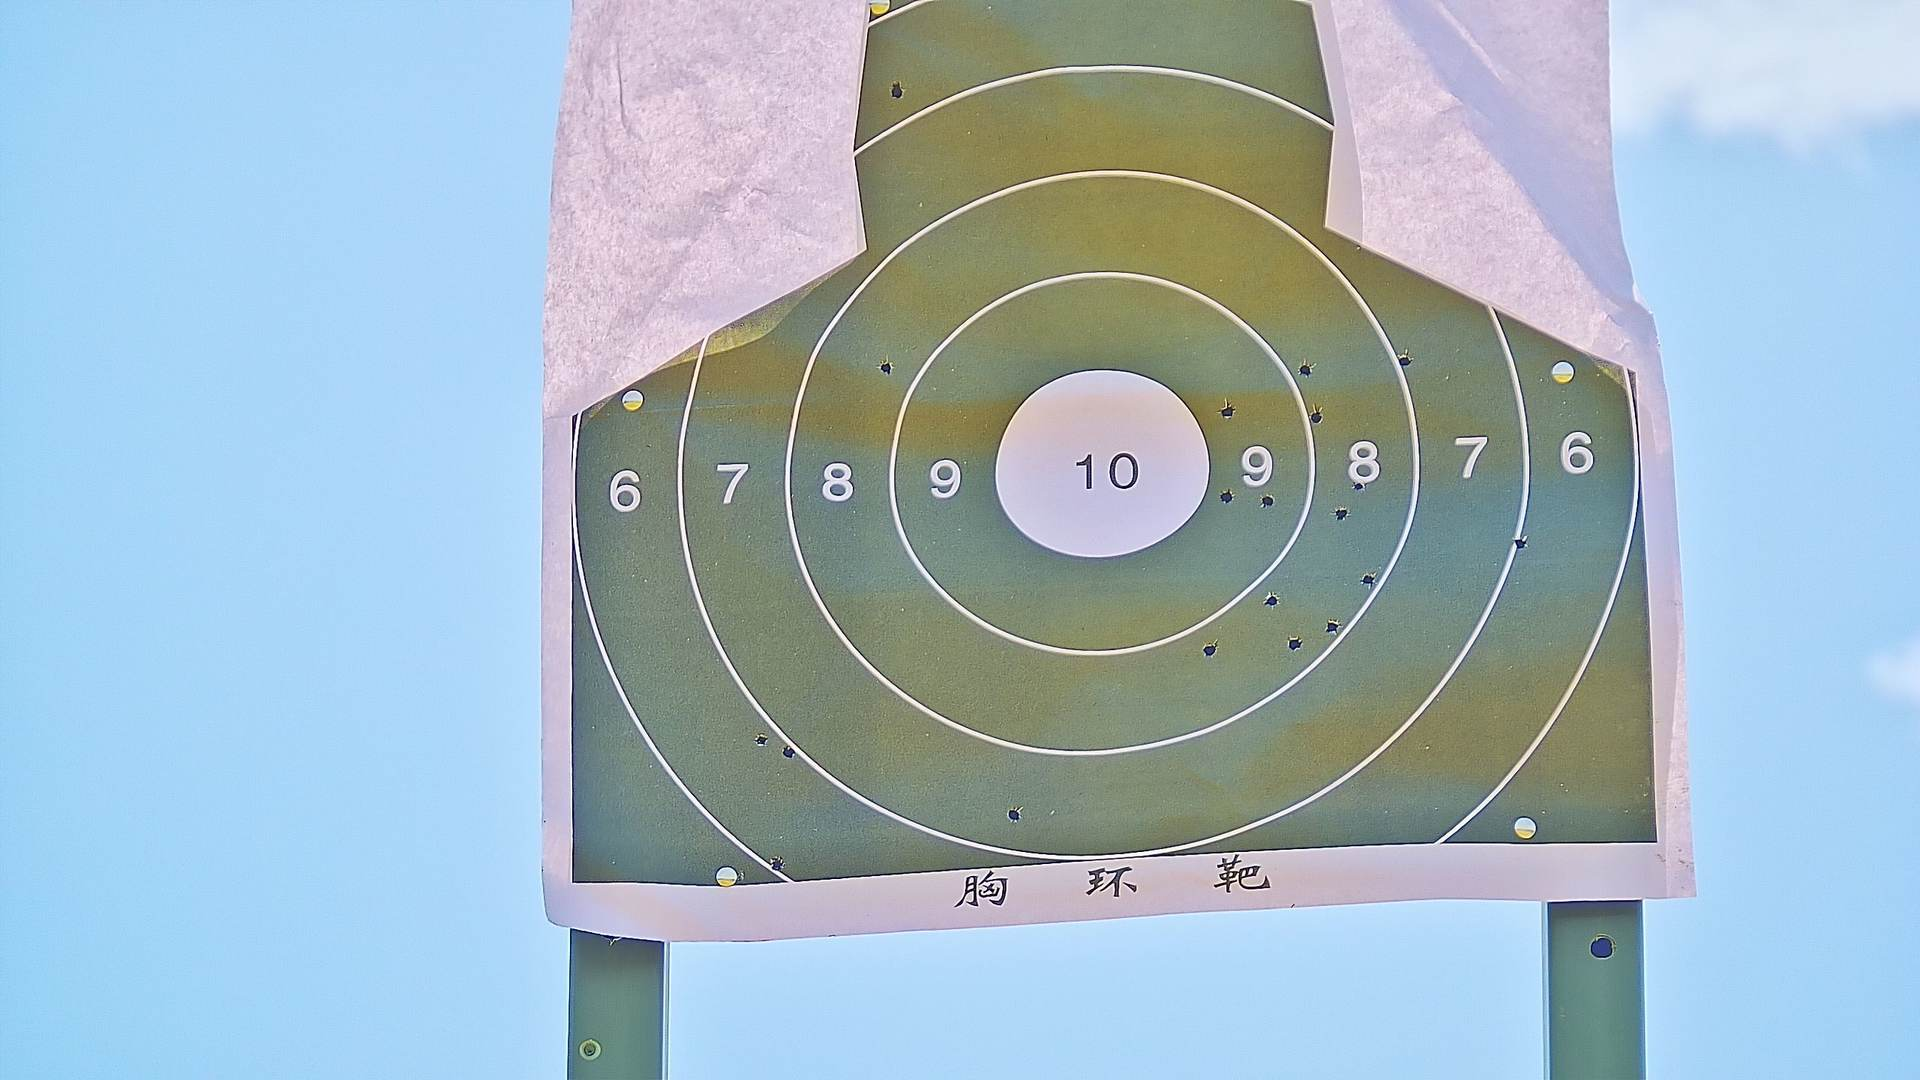hole: (1324, 618, 1338, 637), (1218, 488, 1233, 505), (1203, 640, 1217, 657), (1361, 572, 1377, 587), (1396, 351, 1412, 365), (1333, 506, 1348, 521), (781, 744, 796, 757), (1007, 808, 1021, 824), (1266, 592, 1279, 608), (1300, 361, 1312, 378), (880, 360, 894, 373), (770, 855, 783, 869), (1287, 636, 1302, 649), (1515, 537, 1530, 550), (1222, 404, 1234, 419), (1311, 409, 1323, 425), (1261, 495, 1273, 508), (1353, 480, 1366, 492), (891, 83, 902, 98), (757, 735, 767, 744)
kernel: (1098, 469, 1102, 476)
target: (575, 5, 1659, 890)
ten: (993, 365, 1215, 562)
